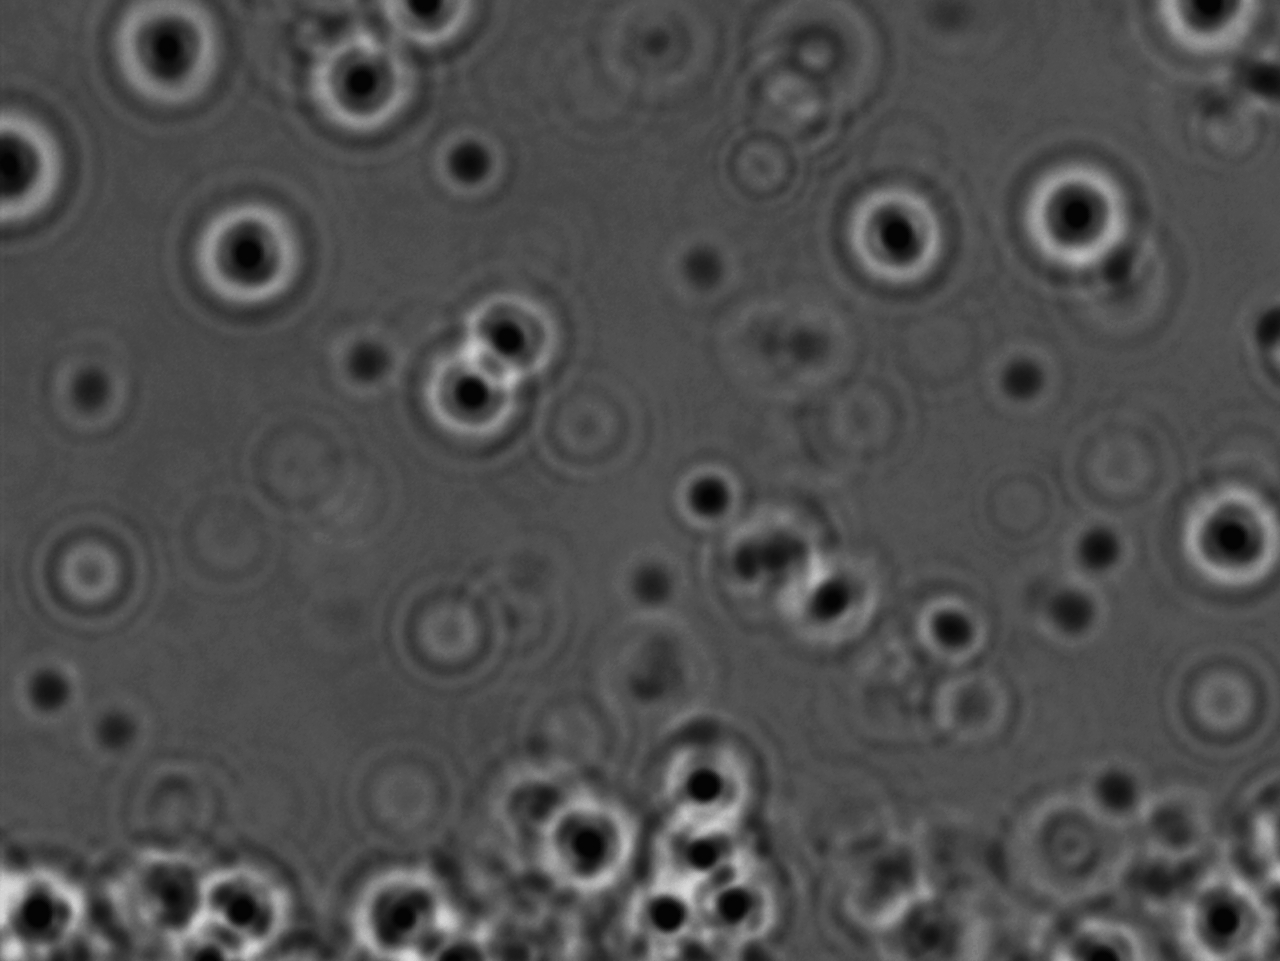depth:-24: (170, 179, 340, 330), (389, 328, 545, 466), (821, 165, 962, 302), (88, 2, 233, 132), (441, 258, 573, 397), (1159, 468, 1280, 618), (1007, 146, 1139, 279), (632, 726, 775, 836)
